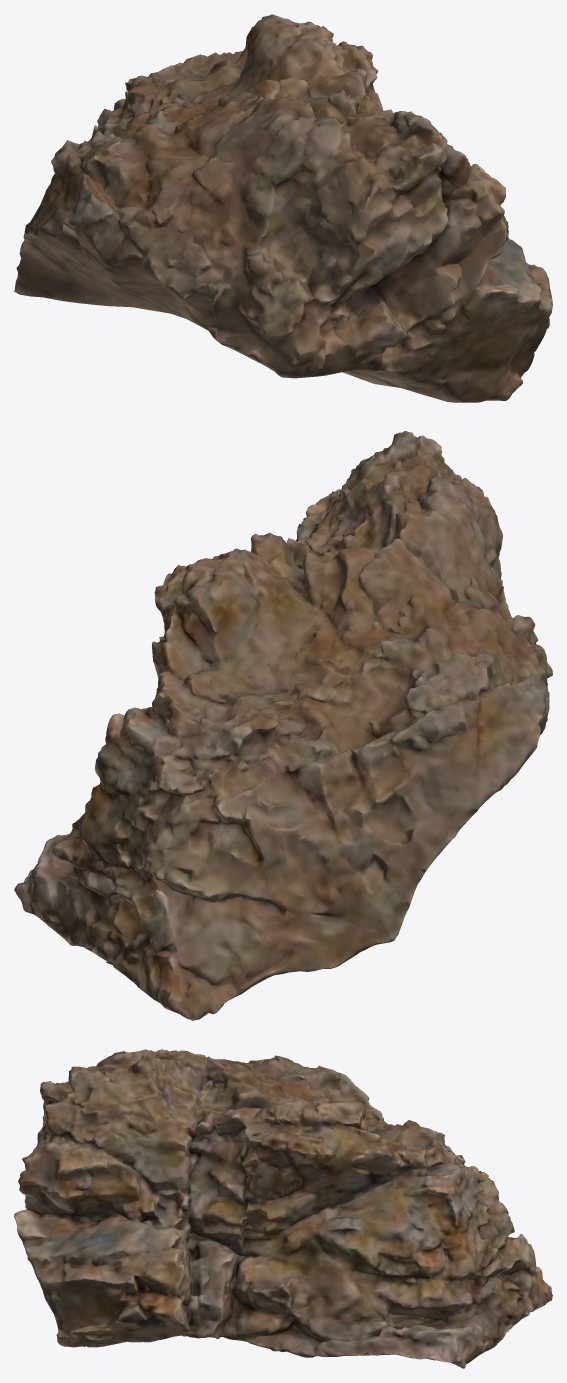
File: boulder_01.lod.glb
The picture shows the model from 3 angles, top to bottom: view 1: azimuth 30°, elevation 25°; view 2: azimuth 150°, elevation 25°; view 3: azimuth 270°, elevation 25°; orthographic projection. The views are drawn at different scales.
Parts seen in each view (by area): view 1: boulder_01; view 2: boulder_01; view 3: boulder_01.
Part boxes in pixels (left/top/right/bottom): boulder_01: left=14, top=14, right=552, bottom=402; boulder_01: left=14, top=431, right=552, bottom=1020; boulder_01: left=14, top=1049, right=552, bottom=1368.
Bounding box in the file's own units: 1.27 × 1 × 1.83.
1 material, 1 textured.
